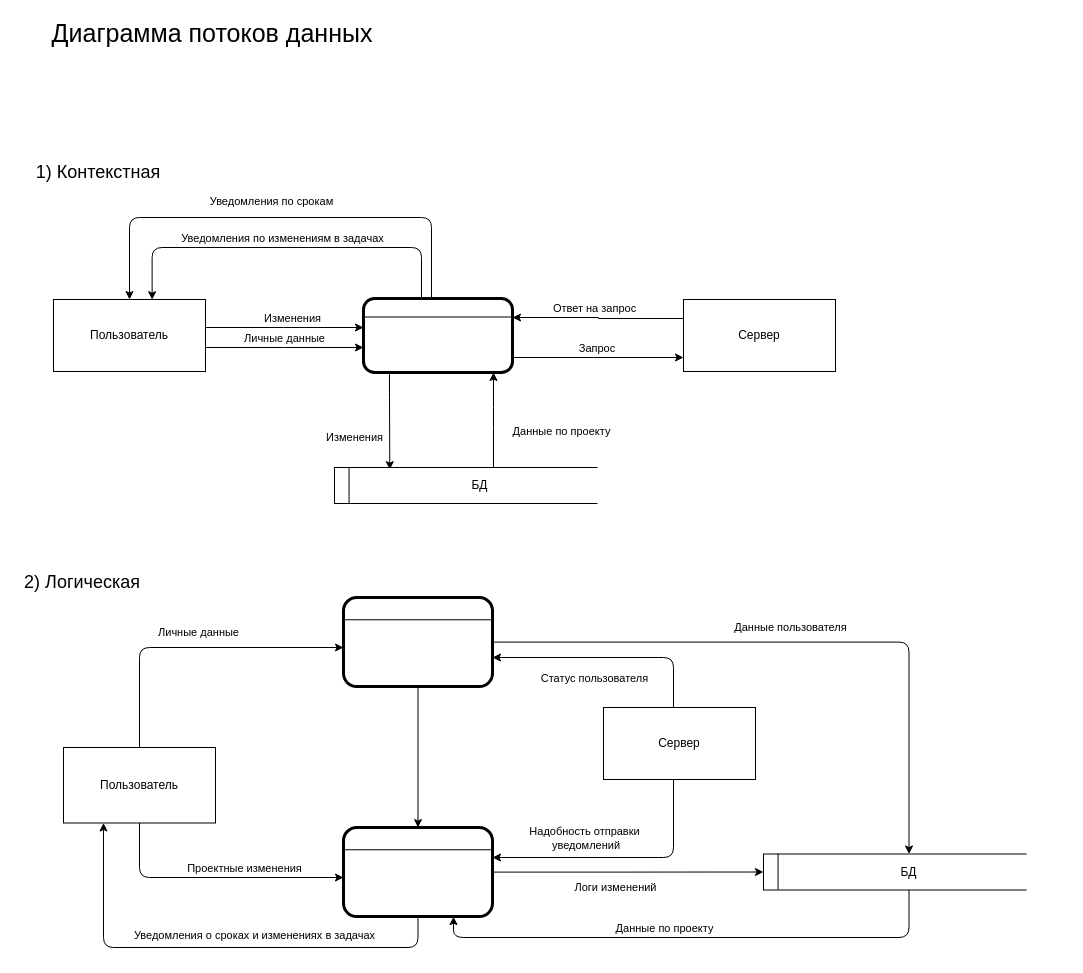
The diagram is 1083 pixels wide and 973 high, and some of its shapes have lost their labels. Each missing label, with the box of its shape:
Авторизация: (342, 596, 494, 688)
Сервис управление проектами: (362, 296, 514, 374)
Управление проектами: (342, 826, 494, 918)
